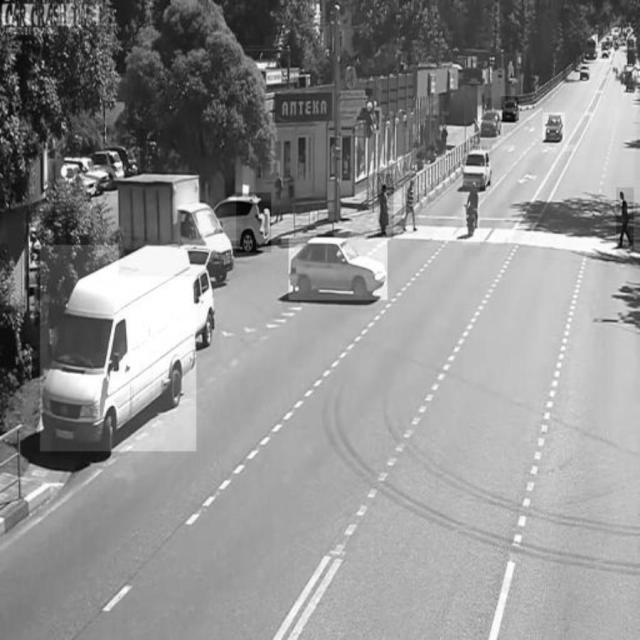person: (617, 188, 634, 254), (402, 172, 419, 236), (378, 174, 394, 238)
vehicle: (40, 246, 196, 452), (119, 178, 237, 276), (289, 237, 387, 301), (213, 192, 271, 253), (462, 146, 492, 191), (462, 179, 480, 245), (479, 109, 504, 139), (543, 113, 565, 140), (502, 97, 519, 124), (578, 62, 594, 82)
